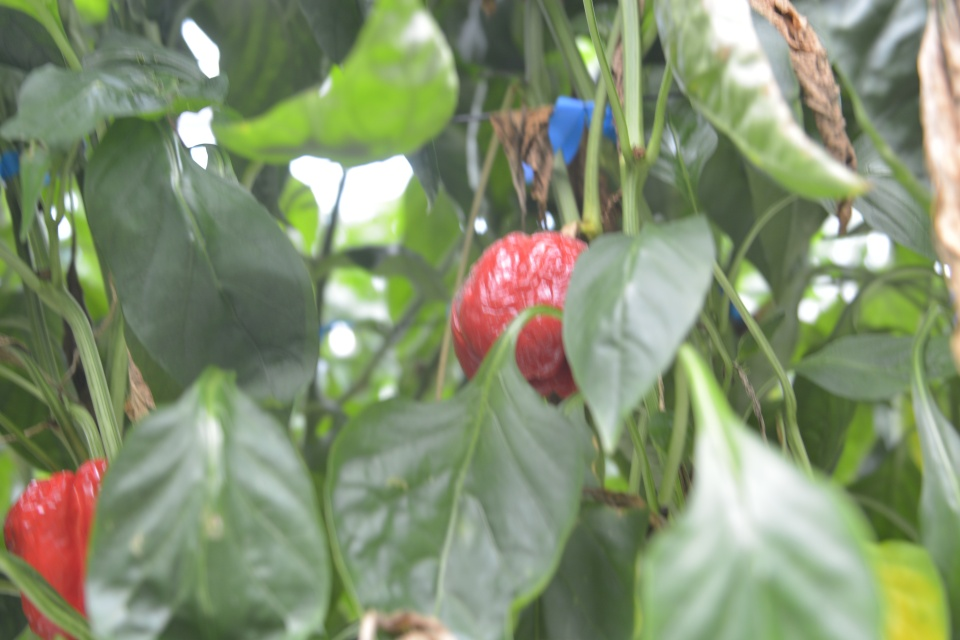fruit: (449, 228, 591, 405), (0, 455, 112, 640)
